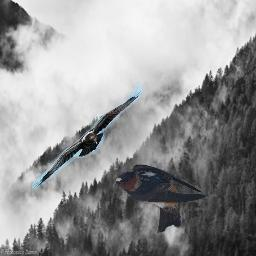Crow: (29, 82, 145, 190)
Swallow: (113, 163, 207, 233)
